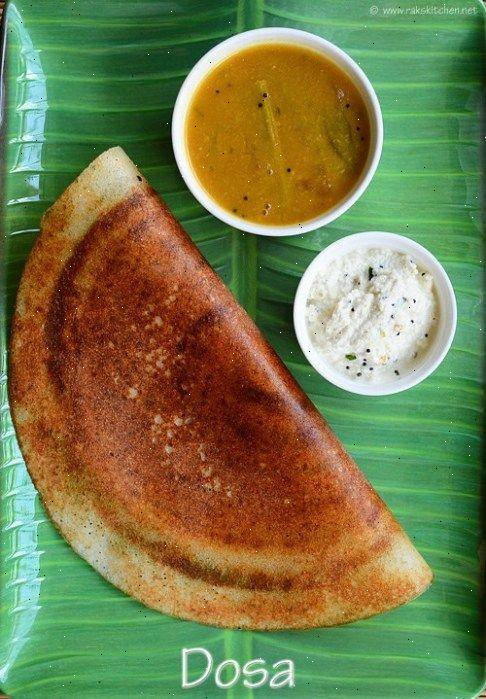dosa: (0, 168, 433, 625)
